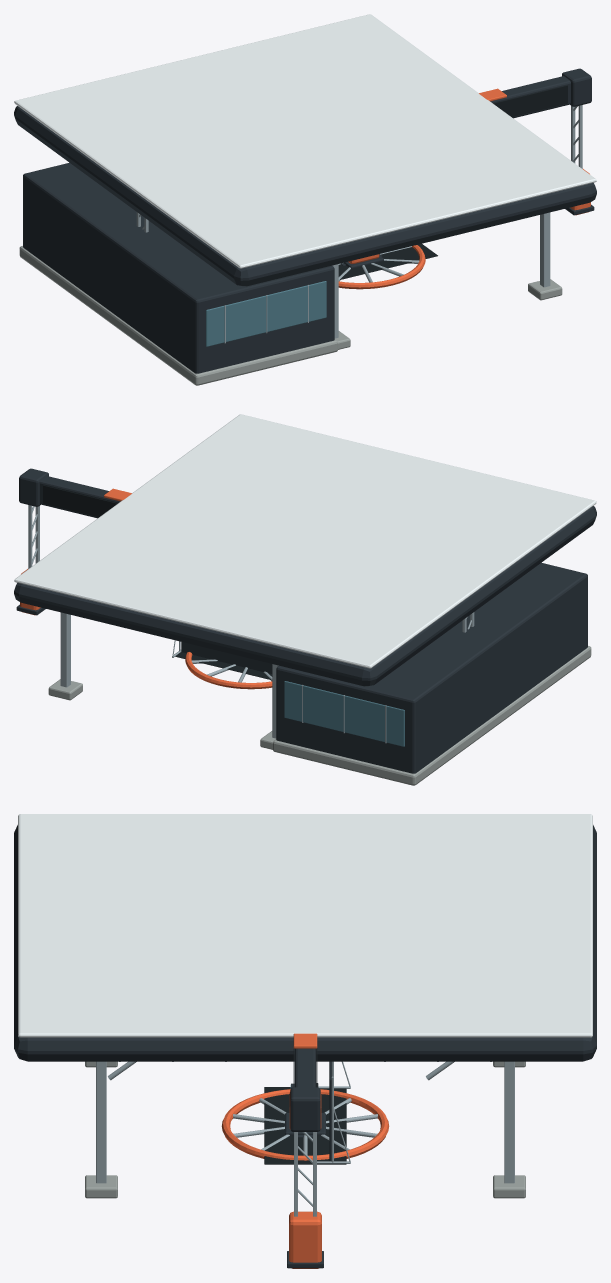
File: venue-v1.glb
3 views of the same model, one above another, from view 1: azimuth 30°, elevation 25°; view 2: azimuth 150°, elevation 25°; view 3: azimuth 270°, elevation 25° (orthographic). The views are drawn at different scales.
Parts seen in each view (by area): view 1: TerminalBuilding_Snow cap, TerminalBuilding_Powder coated graphite, TerminalBuilding_Warm concrete, TerminalBuilding_Smoky glacier glazing, StartPortal_Powder coated graphite, TerminalBuilding_Satin aluminium, StartPortal_Rubber belt, InterviewWall_Rubber belt, StartPortal_Satin aluminium, TerminalWheel_CORK7 vermilion; view 2: TerminalBuilding_Snow cap, TerminalBuilding_Powder coated graphite, TerminalBuilding_Warm concrete, TerminalBuilding_Smoky glacier glazing, StartPortal_Powder coated graphite, TerminalBuilding_Satin aluminium, StartPortal_Rubber belt, InterviewWall_Powder coated graphite, StartPortal_Satin aluminium, TerminalWheel_CORK7 vermilion, InterviewWall_Rubber belt; view 3: TerminalBuilding_Snow cap, TerminalBuilding_Powder coated graphite, InterviewWall_Rubber belt, TerminalBuilding_Satin aluminium, StartPortal_Powder coated graphite, TerminalWheel_CORK7 vermilion, StartPortal_CORK7 vermilion, TerminalBuilding_Warm concrete, TerminalWheel_Satin aluminium, StartPortal_Satin aluminium, InterviewWall_Satin aluminium.
Boxes of the visible parts, box(x1,y1,x2,y2) form: TerminalBuilding_Snow cap: box(14, 14, 596, 268); TerminalBuilding_Powder coated graphite: box(14, 106, 596, 373); TerminalBuilding_Warm concrete: box(19, 246, 562, 385); TerminalBuilding_Smoky glacier glazing: box(206, 281, 326, 346); StartPortal_Powder coated graphite: box(490, 68, 594, 215); TerminalBuilding_Satin aluminium: box(224, 212, 550, 343); StartPortal_Rubber belt: box(493, 85, 567, 116); InterviewWall_Rubber belt: box(338, 243, 437, 279); StartPortal_Satin aluminium: box(136, 105, 582, 232); TerminalWheel_CORK7 vermilion: box(338, 245, 425, 289); TerminalBuilding_Snow cap: box(14, 414, 596, 668); TerminalBuilding_Powder coated graphite: box(14, 506, 596, 773); TerminalBuilding_Warm concrete: box(48, 646, 591, 785); TerminalBuilding_Smoky glacier glazing: box(284, 681, 404, 746); StartPortal_Powder coated graphite: box(16, 468, 120, 615); TerminalBuilding_Satin aluminium: box(60, 612, 386, 743); StartPortal_Rubber belt: box(43, 485, 117, 516); InterviewWall_Powder coated graphite: box(181, 642, 272, 673); StartPortal_Satin aluminium: box(28, 505, 474, 632); TerminalWheel_CORK7 vermilion: box(185, 652, 272, 689); InterviewWall_Rubber belt: box(174, 651, 272, 679); TerminalBuilding_Snow cap: box(18, 814, 592, 1037); TerminalBuilding_Powder coated graphite: box(14, 825, 596, 1061); InterviewWall_Rubber belt: box(264, 1087, 346, 1164); TerminalBuilding_Satin aluminium: box(96, 1061, 514, 1183); StartPortal_Powder coated graphite: box(287, 1048, 323, 1268); TerminalWheel_CORK7 vermilion: box(221, 1089, 389, 1160); StartPortal_CORK7 vermilion: box(289, 1033, 321, 1268); TerminalBuilding_Warm concrete: box(85, 1061, 525, 1198); TerminalWheel_Satin aluminium: box(233, 1098, 377, 1155); StartPortal_Satin aluminium: box(294, 1132, 316, 1216); InterviewWall_Satin aluminium: box(317, 1061, 350, 1163).
Bounding box in the file's own units: 26.52 × 7.22 × 22.
